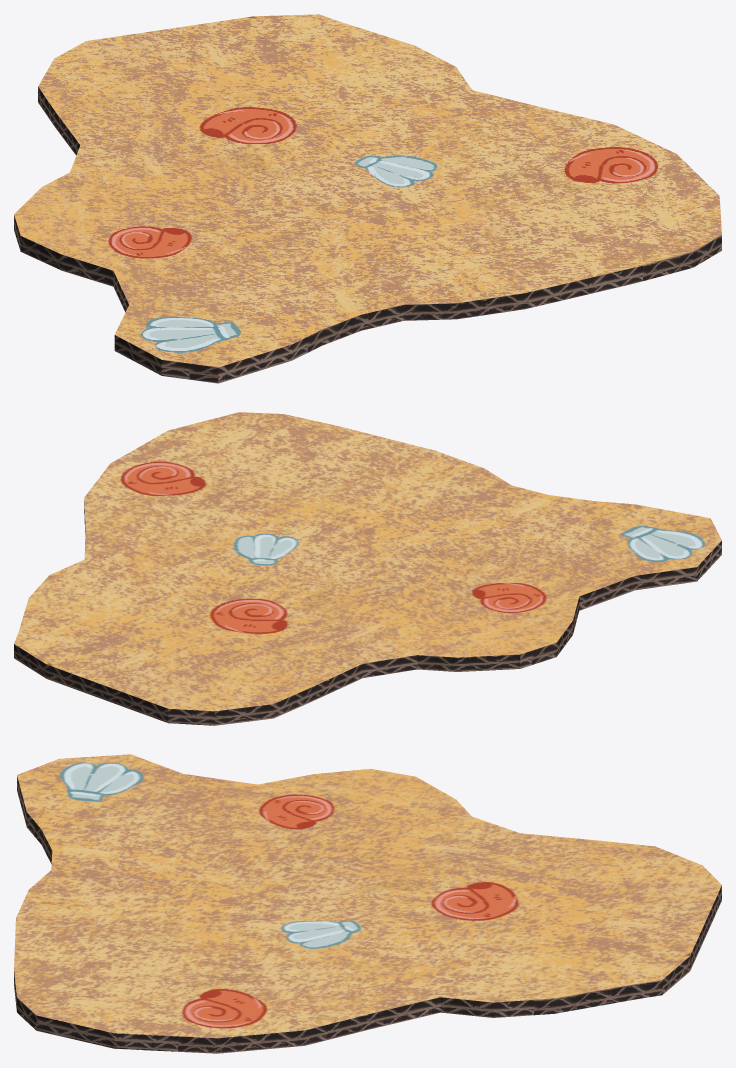
The model's file is Plane_Ver6.fbx.
The picture shows the model from 3 angles, top to bottom: view 1: azimuth 30°, elevation 25°; view 2: azimuth 150°, elevation 25°; view 3: azimuth 270°, elevation 25°; orthographic projection. The views are drawn at different scales.
Visible parts, largest first — view 1: Plane_Ver6; view 2: Plane_Ver6; view 3: Plane_Ver6.
Boxes of the visible parts, <box> form: Plane_Ver6: <box>14,14,721,383</box>; Plane_Ver6: <box>14,412,721,725</box>; Plane_Ver6: <box>14,754,721,1053</box>.
Bounding box in the file's own units: 792 × 20 × 834.
